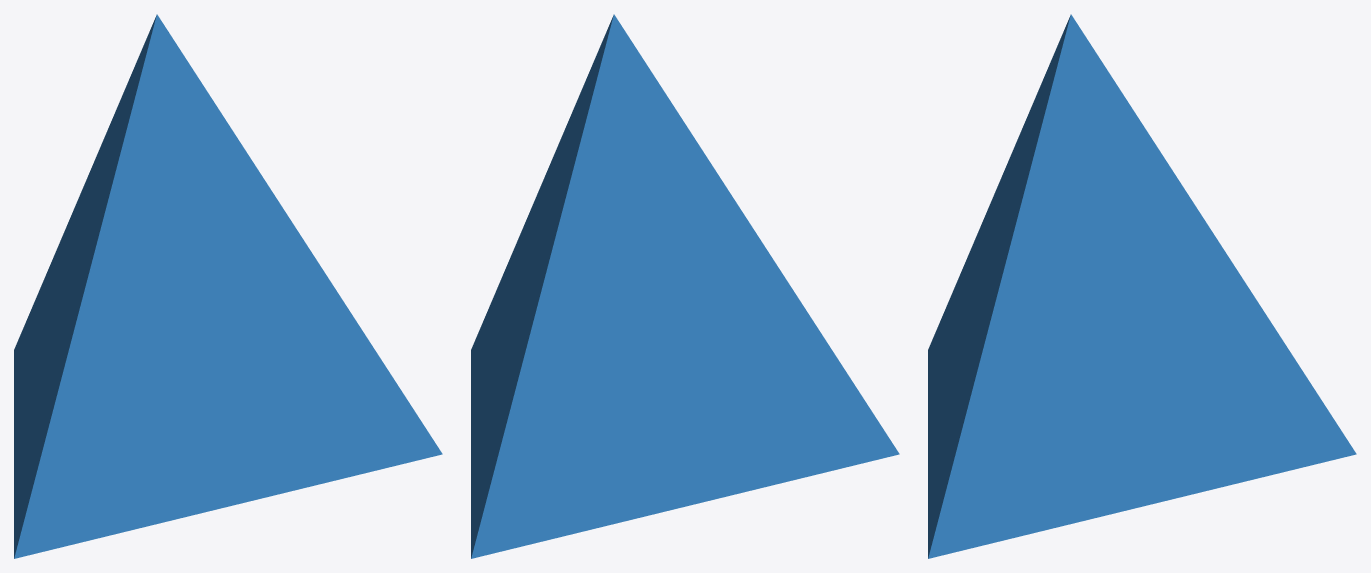
3 views of the same model, side by side, from view 1: azimuth 30°, elevation 25°; view 2: azimuth 150°, elevation 25°; view 3: azimuth 270°, elevation 25° (orthographic).
Parts seen in each view (by area): view 1: Cone; view 2: Cone; view 3: Cone.
Part boxes in pixels (x1,y1,x2,y2): Cone: [14, 14, 442, 558]; Cone: [471, 14, 899, 558]; Cone: [928, 14, 1356, 558].
Size of the model in its own units: 173 by 170 by 150.
